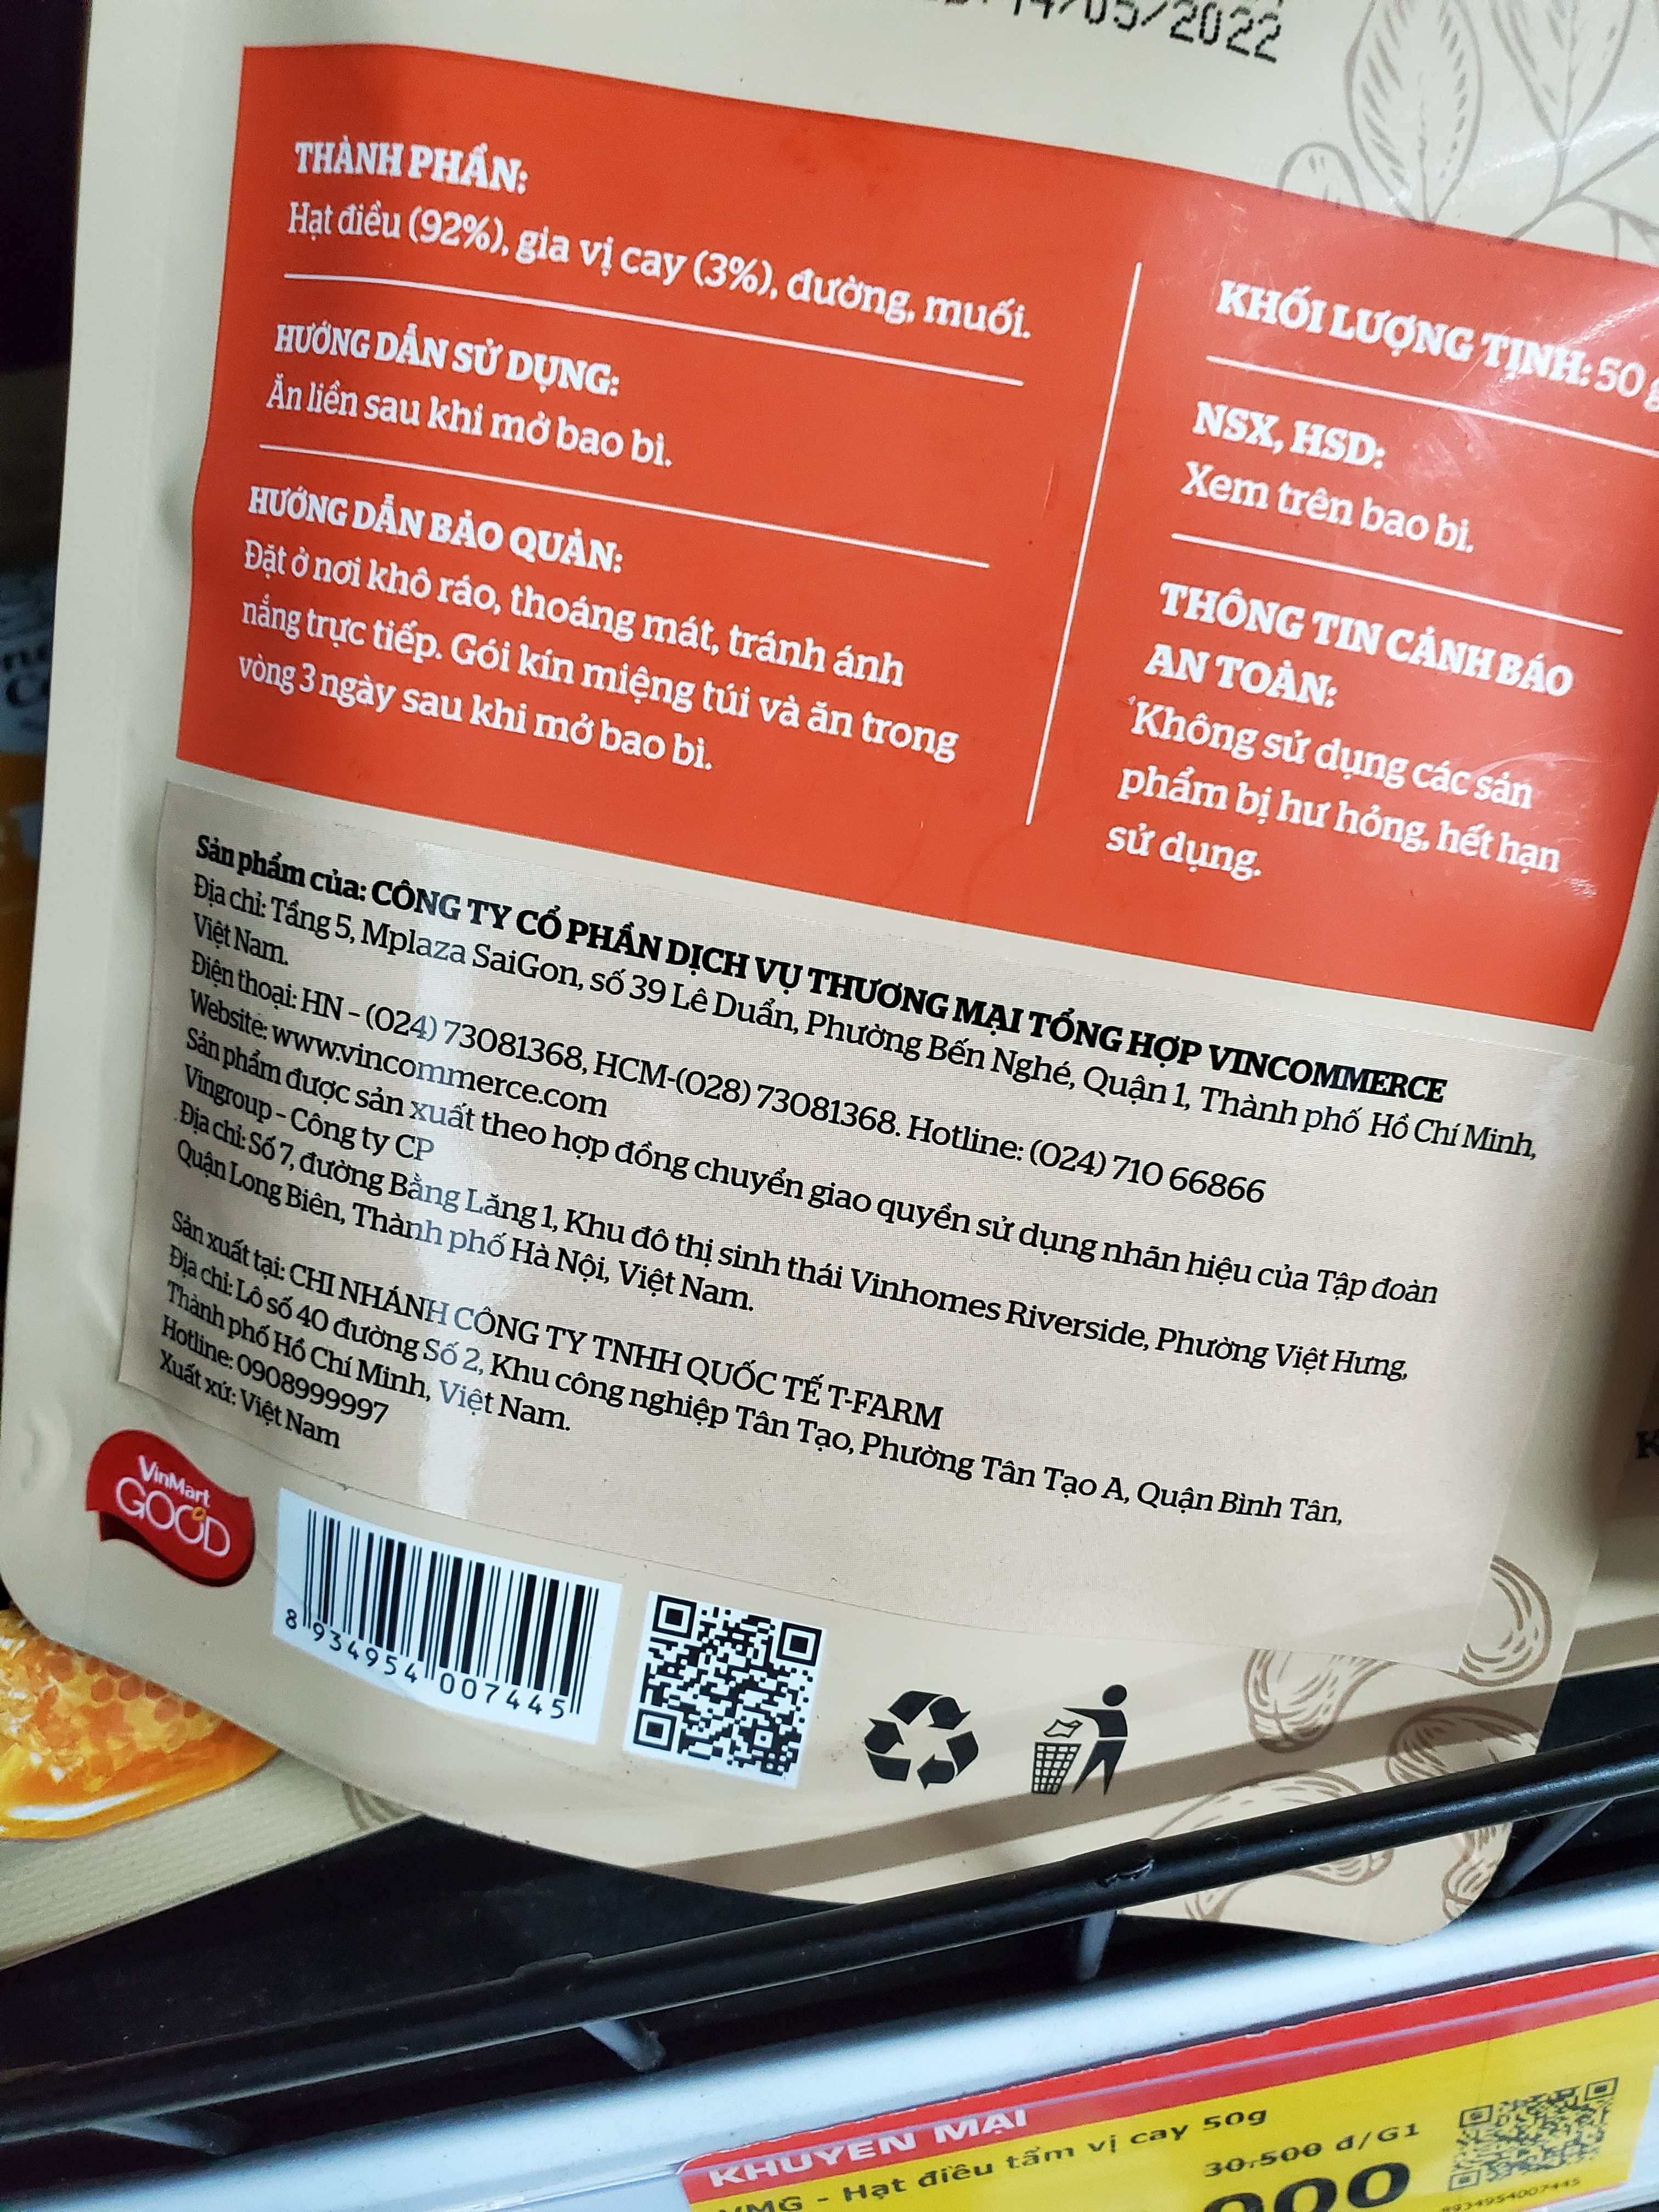barcode: (239, 1501, 620, 1766)
qr code: (622, 1569, 833, 1801)
